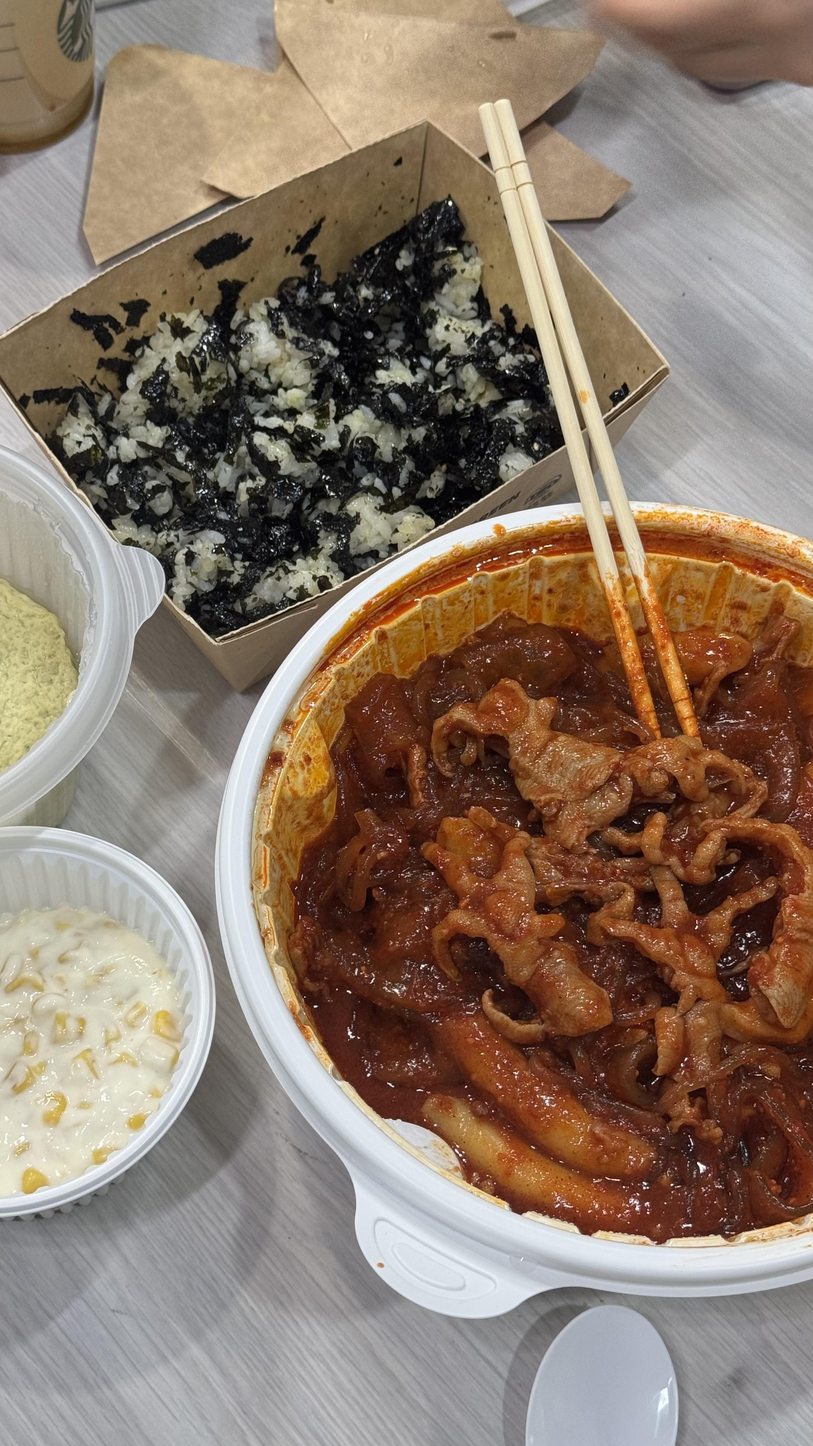Lunch Box: (217, 505, 813, 1316), (0, 0, 629, 690), (0, 828, 214, 1219), (0, 447, 164, 826)
